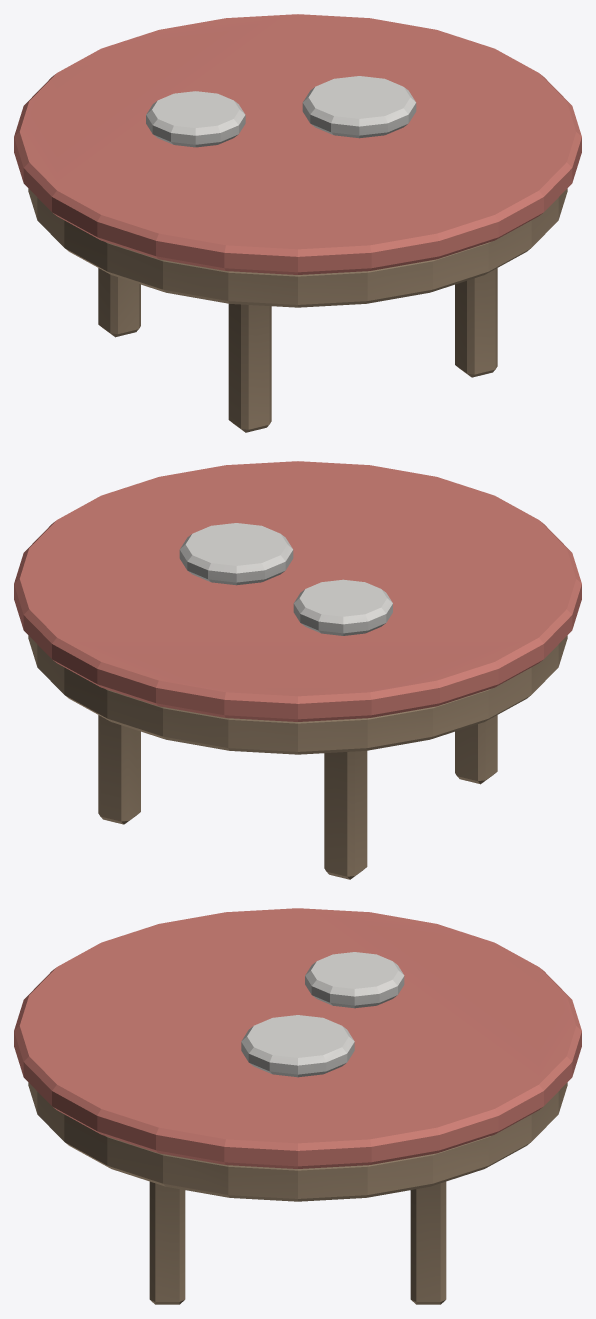
File: furn_soban__red.glb
The picture shows the model from 3 angles, top to bottom: view 1: azimuth 30°, elevation 25°; view 2: azimuth 150°, elevation 25°; view 3: azimuth 270°, elevation 25°; orthographic projection.
Size of the model in its own units: 0.8 by 0.37 by 0.8.
